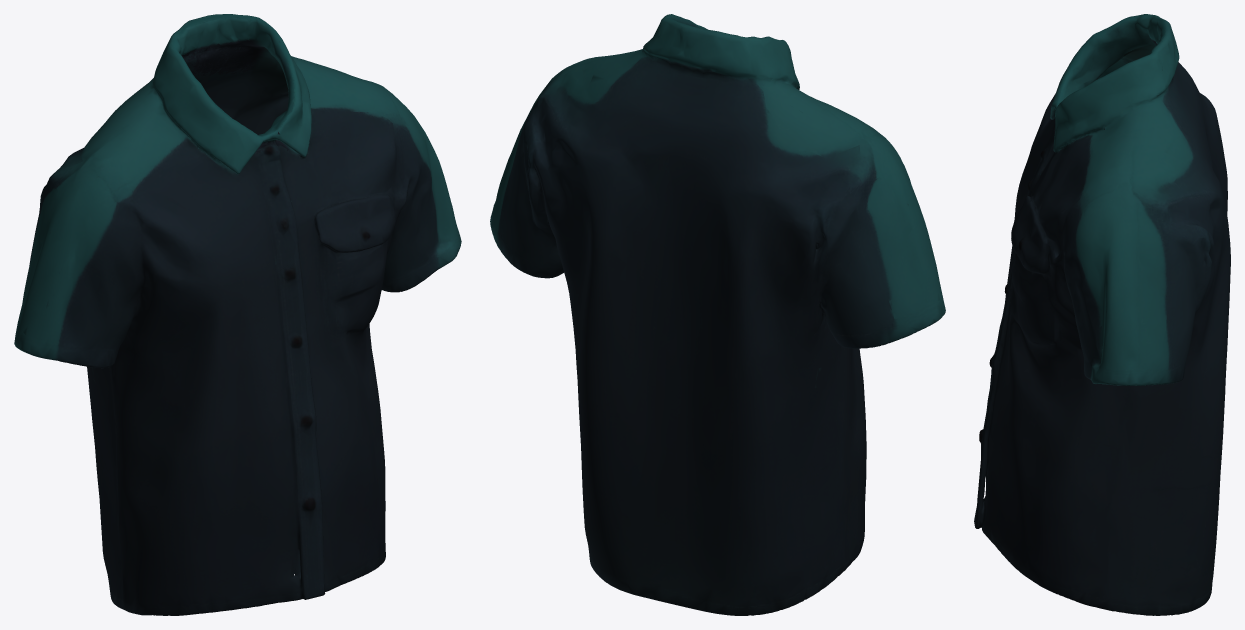
File: polo-shirt.glb
The picture shows the model from 3 angles, left to right: view 1: azimuth 30°, elevation 25°; view 2: azimuth 150°, elevation 25°; view 3: azimuth 270°, elevation 25°; orthographic projection. The views are drawn at different scales.
Parts seen in each view (by area): view 1: world; view 2: world; view 3: world.
Part boxes in pixels (bbox=[...]): world: bbox=[14, 14, 461, 615]; world: bbox=[490, 14, 945, 615]; world: bbox=[974, 14, 1230, 615].
Size of the model in its own units: 0.8231 by 0.9998 by 0.4285.
Materials: 1 (1 with a texture image).
